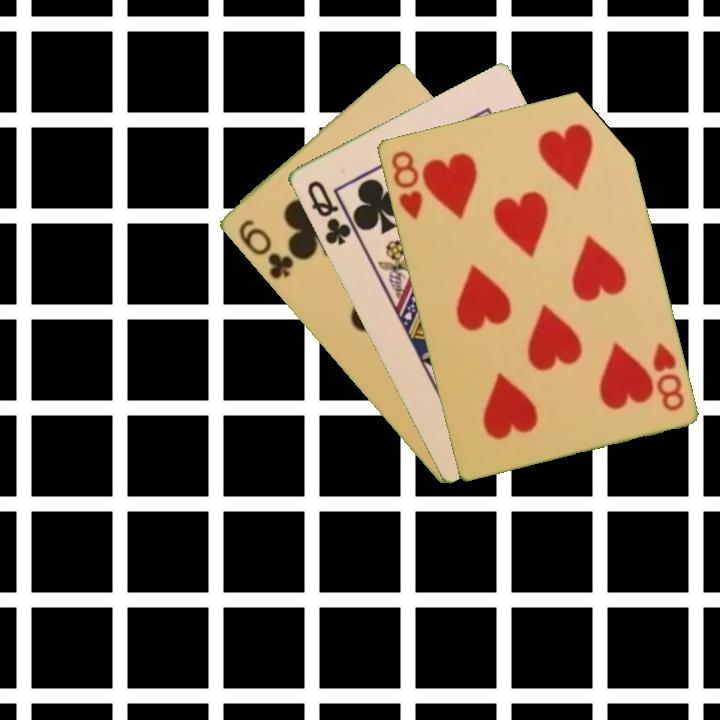6c: (234, 216, 297, 282)
8h: (648, 339, 687, 414), (387, 147, 425, 223)
Qc: (303, 176, 360, 248)
